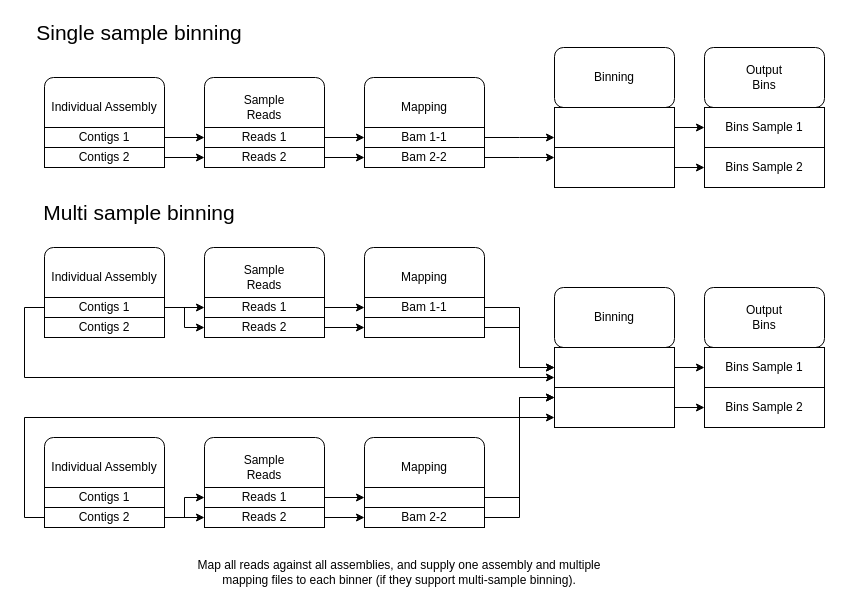
This 842x604 diagram has some shape labels left out. The box of each missing label's shape, as (x1, y1, x2, y2) in pixels:
Bam 1-2: (364, 316, 484, 338)
Bam 2-1: (364, 486, 484, 508)
Input: BAM 1-1 Contigs 1: (554, 106, 674, 148)
Input: BAM 1-1, 1-2 Contigs 1: (554, 346, 674, 388)
Input: BAM 2-1, 2-2, Contigs 2: (554, 386, 674, 428)
Input: BAM 2-2 Contigs 2: (554, 146, 674, 188)
